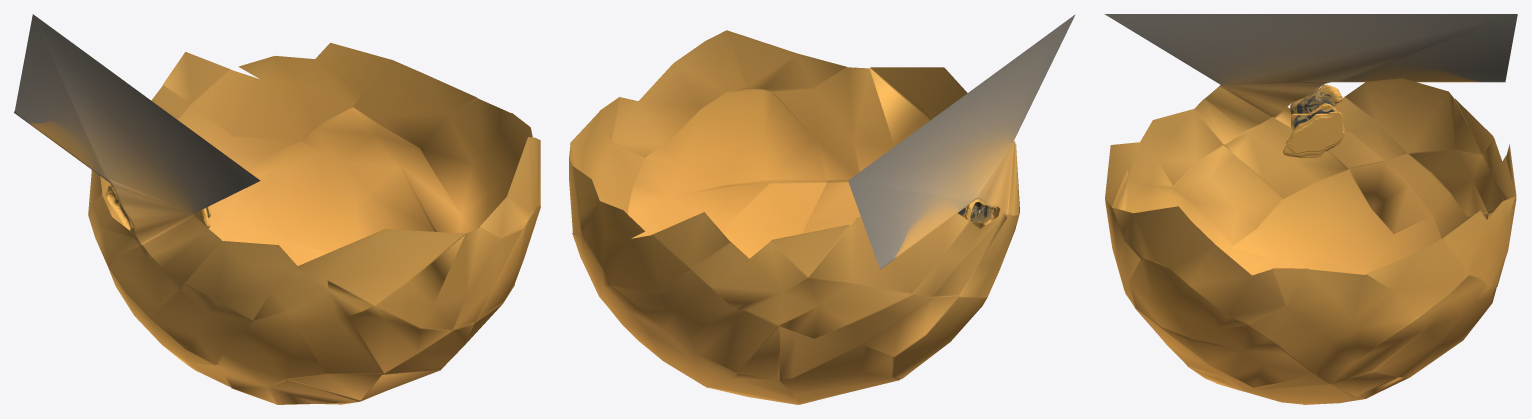
File: helix-fall-orb.glb
3 views of the same model, side by side, from view 1: azimuth 30°, elevation 25°; view 2: azimuth 150°, elevation 25°; view 3: azimuth 270°, elevation 25° (orthographic). The views are drawn at different scales.
Parts seen in each view (by area): view 1: tripo_node_55f15f6f-8b32-4511-a487-9fb0916cf6fd; view 2: tripo_node_55f15f6f-8b32-4511-a487-9fb0916cf6fd; view 3: tripo_node_55f15f6f-8b32-4511-a487-9fb0916cf6fd.
Part boxes in pixels (x1=…): tripo_node_55f15f6f-8b32-4511-a487-9fb0916cf6fd: x1=14, y1=14, x2=540, y2=404; tripo_node_55f15f6f-8b32-4511-a487-9fb0916cf6fd: x1=569, y1=14, x2=1075, y2=404; tripo_node_55f15f6f-8b32-4511-a487-9fb0916cf6fd: x1=1104, y1=14, x2=1517, y2=404.
Bounding box in the file's own units: 0.9922 × 0.7867 × 0.9961.
1 material, 1 textured.
